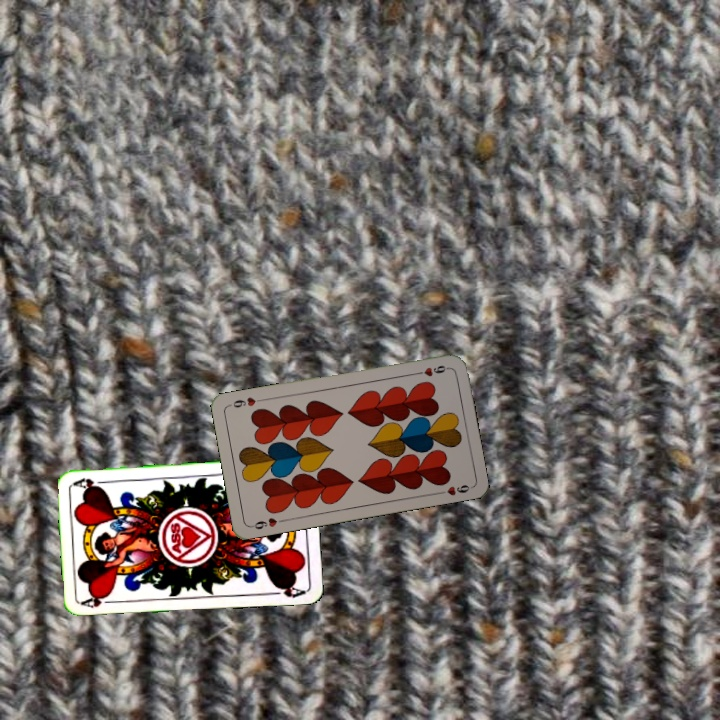H9: (247, 513, 287, 532), (411, 361, 452, 379)
HA: (78, 591, 119, 610)
